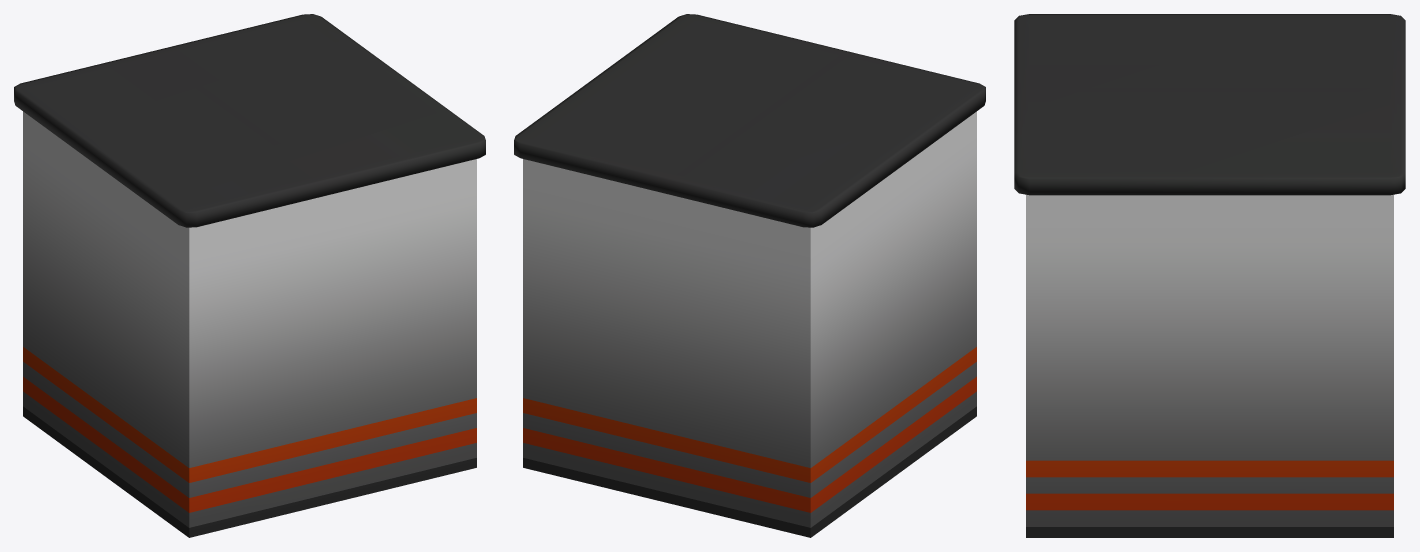
File: Cabinet.fbx
3 renders of one model, left to right at view 1: azimuth 30°, elevation 25°; view 2: azimuth 150°, elevation 25°; view 3: azimuth 270°, elevation 25°, orthographic. The views are drawn at different scales.
Visible parts, largest first — view 1: Cabinet; view 2: Cabinet; view 3: Cabinet.
Part boxes in pixels (x1,y1,x2,y2): Cabinet: (14,14,485,537); Cabinet: (514,14,985,537); Cabinet: (1014,14,1405,537).
Size of the model in its own units: 118 by 121 by 118.
